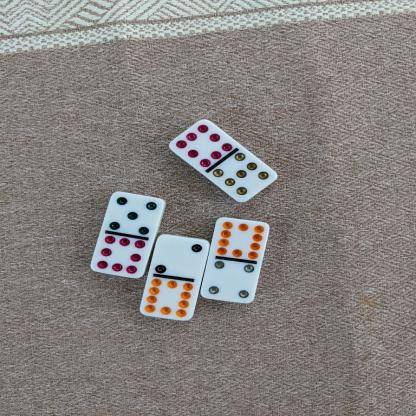pip-10: (215, 215, 269, 259), (143, 276, 193, 322)
pip-2: (153, 234, 210, 276)
pip-4: (200, 259, 253, 304)
pip-5: (108, 190, 166, 236)
pip-7: (211, 152, 278, 202)
pip-8: (167, 119, 233, 168), (91, 235, 146, 278)
